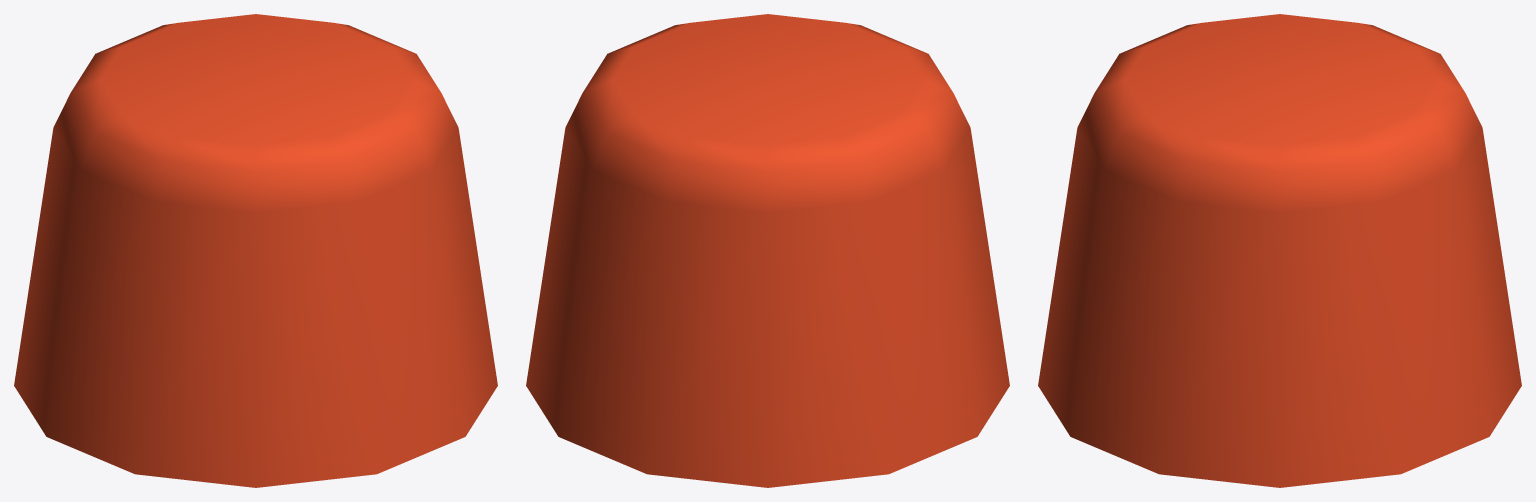
Rendered from Switch01.fbx.
3 renders of one model, left to right at view 1: azimuth 30°, elevation 25°; view 2: azimuth 150°, elevation 25°; view 3: azimuth 270°, elevation 25°, orthographic.
Parts seen in each view (by area): view 1: pCylinder29; view 2: pCylinder29; view 3: pCylinder29.
Part boxes in pixels (x1=…): pCylinder29: x1=14, y1=14, x2=497, y2=487; pCylinder29: x1=526, y1=14, x2=1009, y2=487; pCylinder29: x1=1038, y1=14, x2=1521, y2=487.
Bounding box in the file's own units: 0.0553 × 0.0386 × 0.0553.
Materials: 1 (1 with a texture image).
